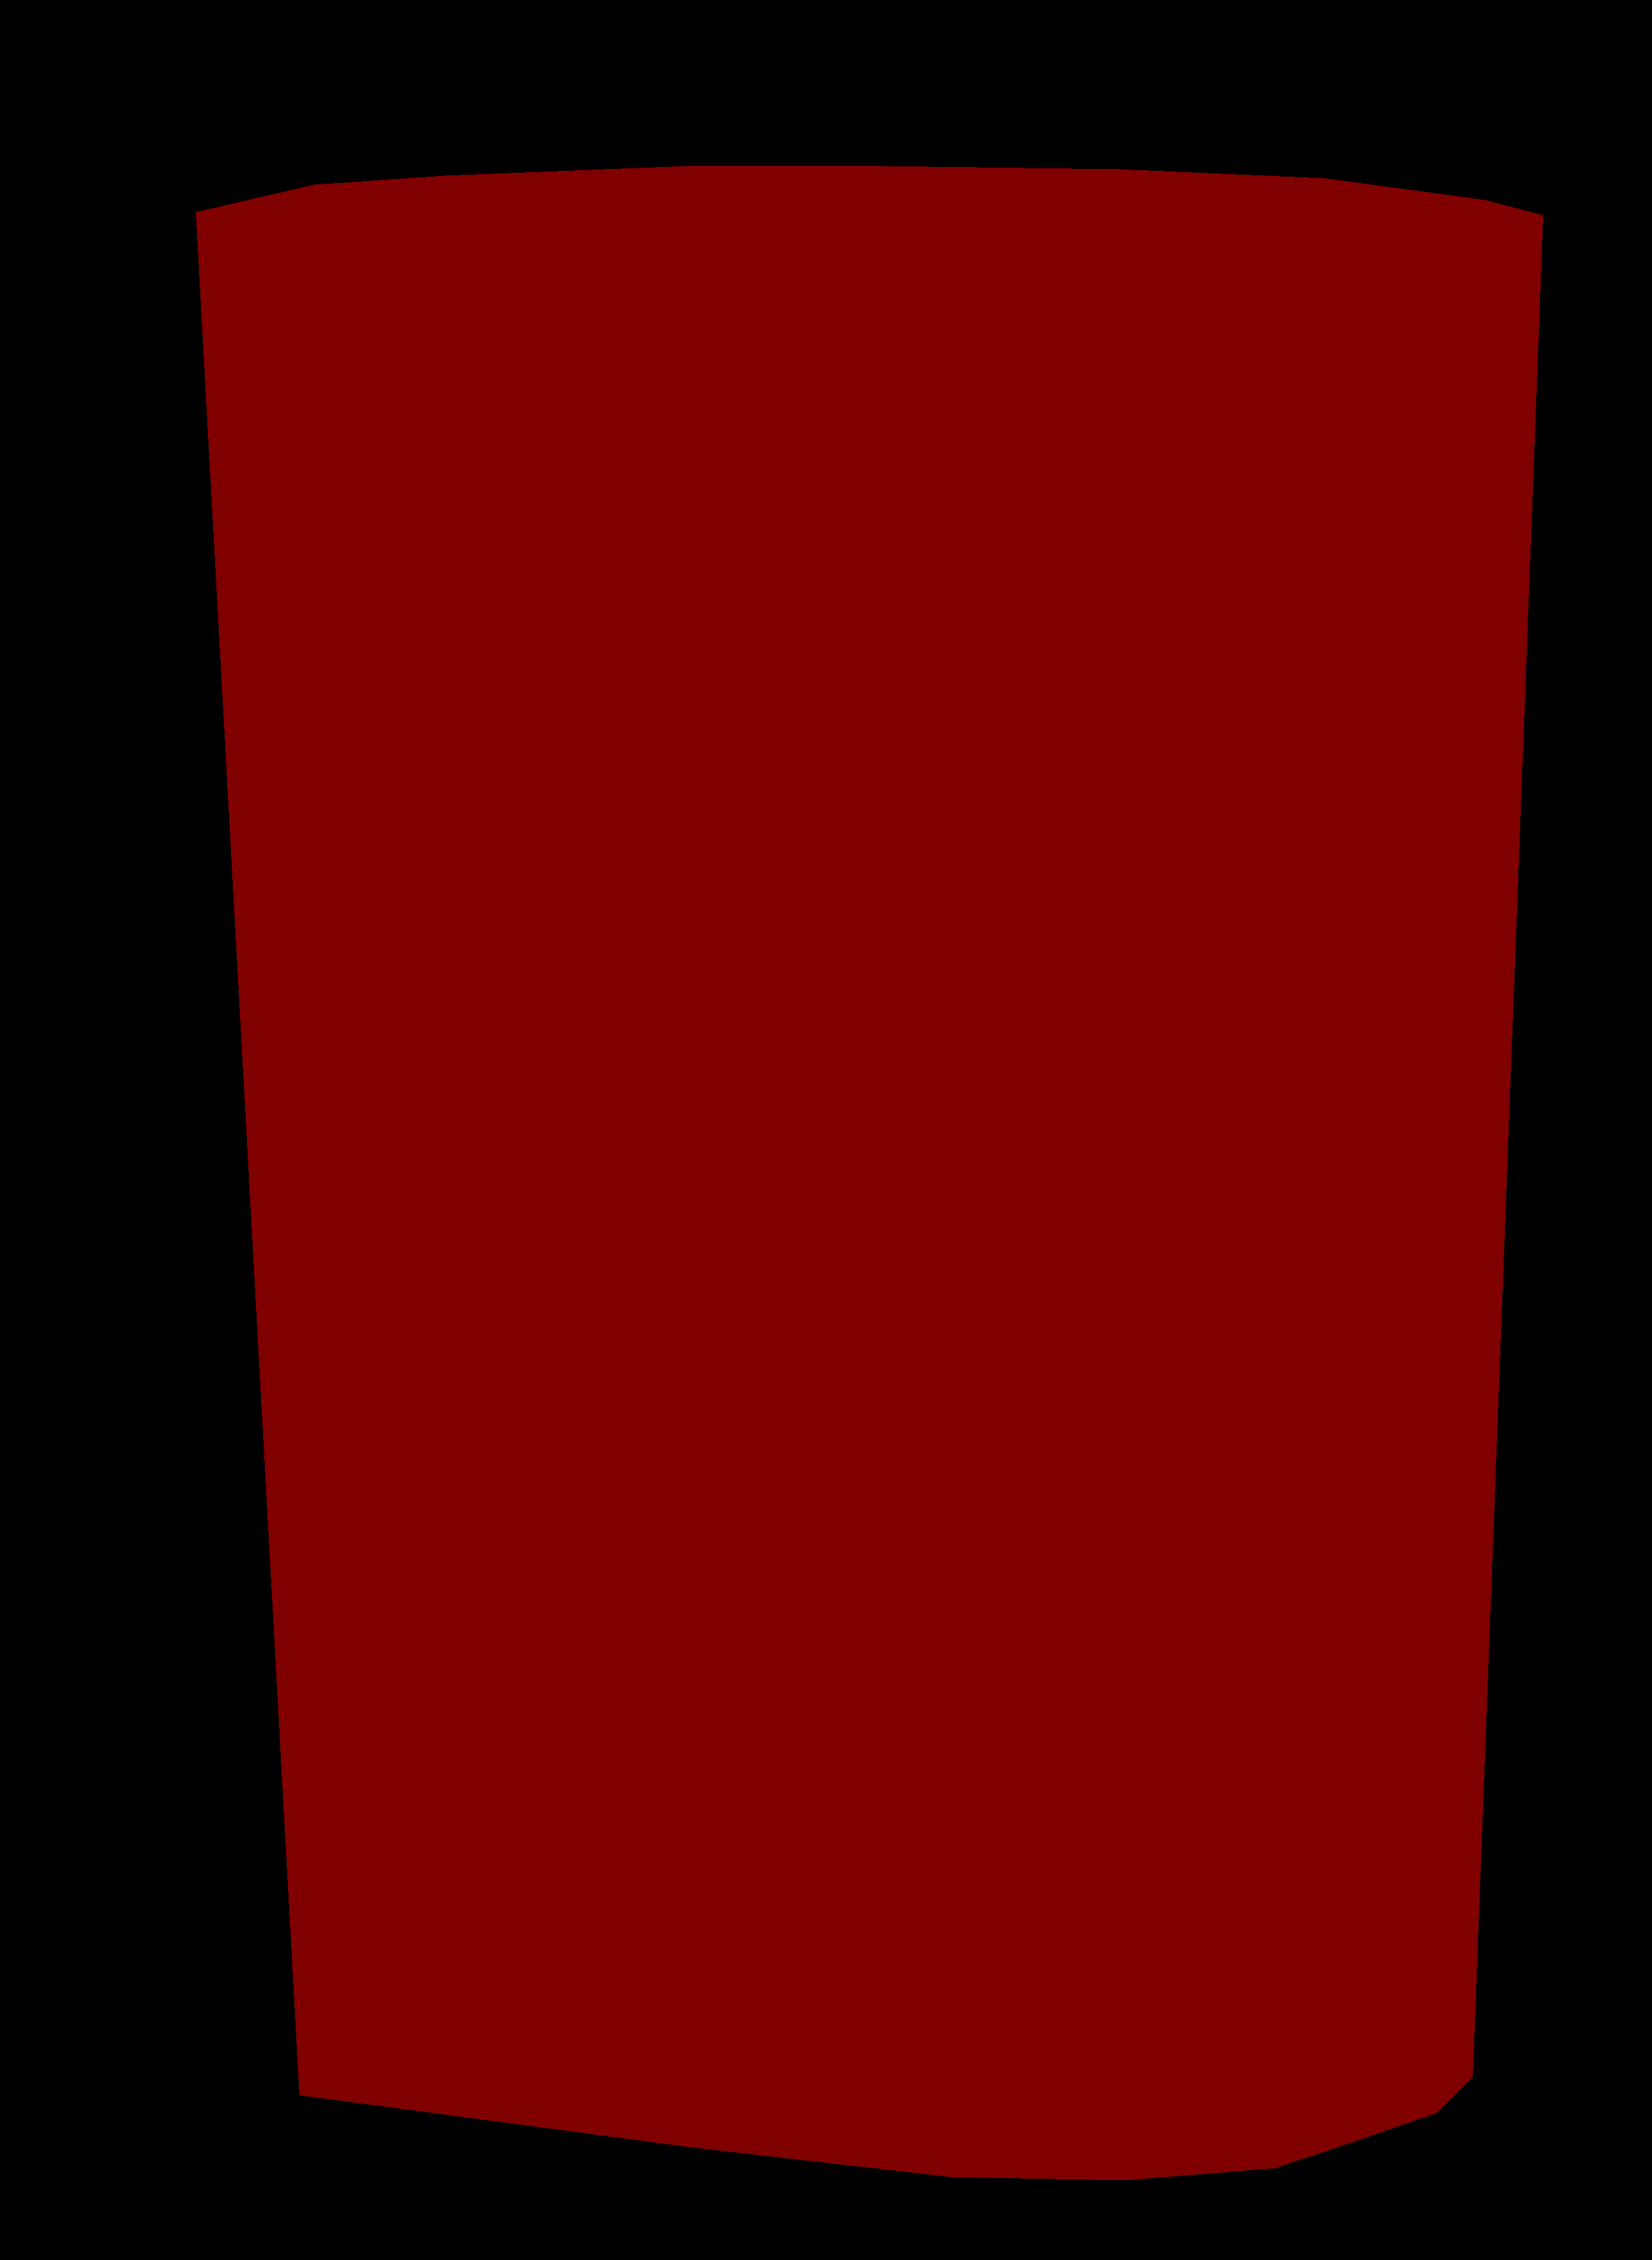sign: (196, 165, 1543, 2179)
